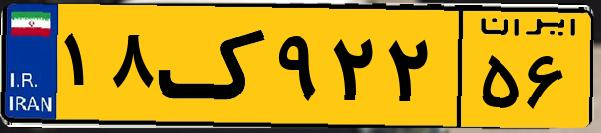1: (57, 26, 110, 100)
2: (385, 28, 445, 110), (330, 28, 385, 110)
5: (475, 38, 525, 113)
6: (525, 38, 570, 115)
8: (110, 28, 158, 98)
9: (270, 28, 330, 110)
ک: (158, 12, 270, 120)
